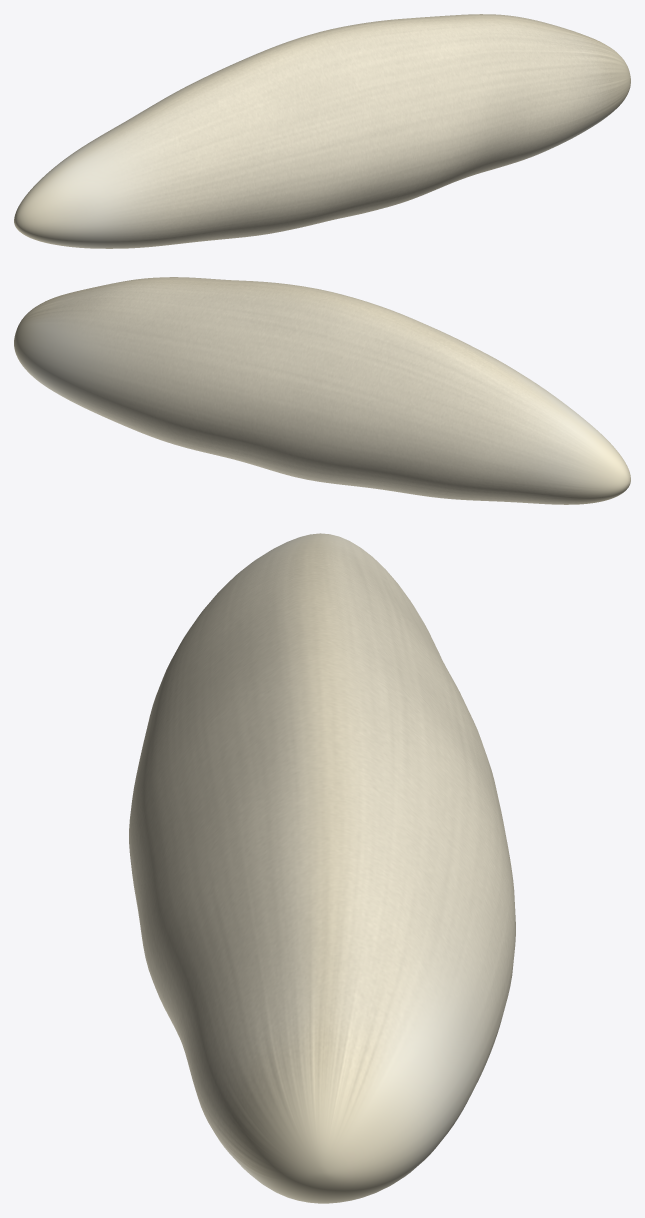
File: kolam-rice-grain.glb
The picture shows the model from 3 angles, top to bottom: view 1: azimuth 30°, elevation 25°; view 2: azimuth 150°, elevation 25°; view 3: azimuth 270°, elevation 25°; orthographic projection. The views are drawn at different scales.
Visible parts, largest first — view 1: KolamRiceGrain; view 2: KolamRiceGrain; view 3: KolamRiceGrain.
Boxes of the visible parts, left/top/right/bottom form: KolamRiceGrain: left=14, top=14, right=630, bottom=248; KolamRiceGrain: left=14, top=277, right=630, bottom=504; KolamRiceGrain: left=129, top=533, right=515, bottom=1203.
Size of the model in its own units: 0.0051 by 0.0014 by 0.0014.
1 material, 1 textured.
